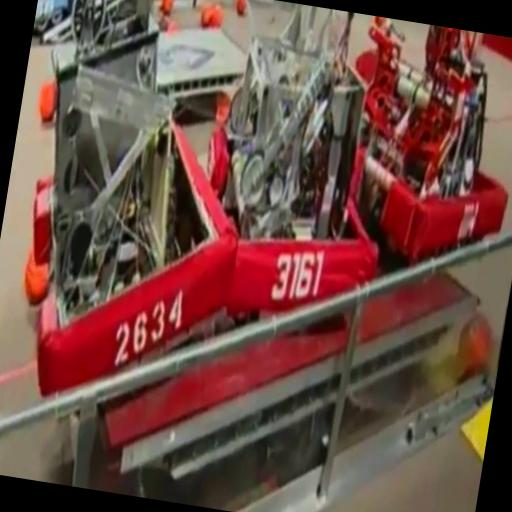robot: (0, 18, 267, 386), (169, 0, 415, 333), (305, 12, 512, 284)
